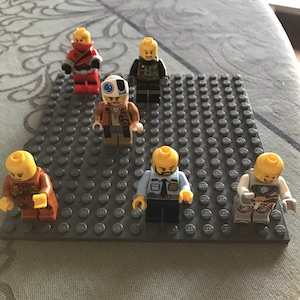Lego: (235, 151, 299, 233), (132, 145, 194, 225), (1, 149, 58, 226), (90, 72, 143, 150), (61, 27, 103, 96), (127, 36, 168, 103)
